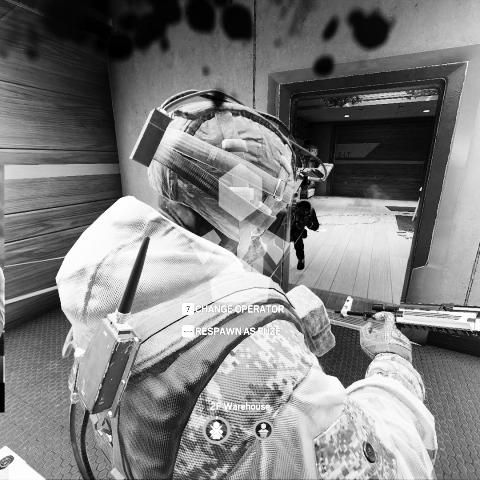Character: (51, 86, 440, 480), (290, 199, 320, 270)
Head: (132, 89, 329, 273), (296, 200, 312, 218)
